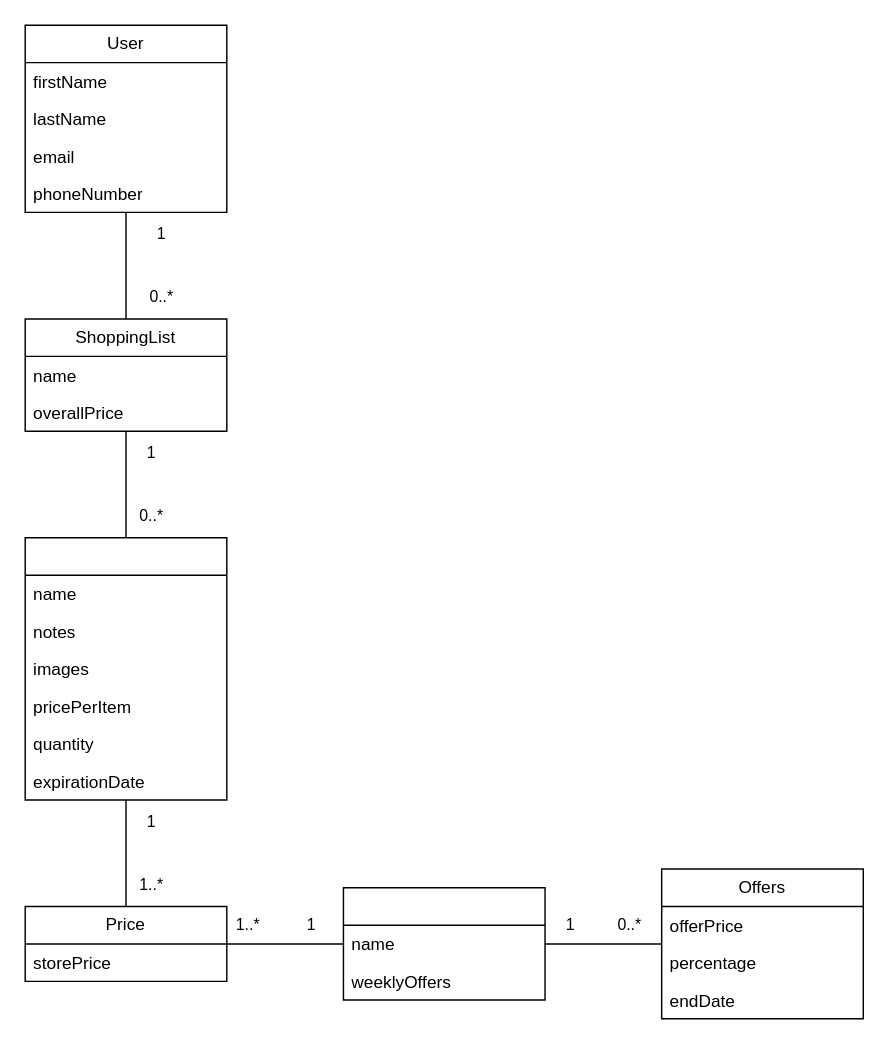
Some shapes in this 888 by 1048 pixel diagram are drawn without their labels. Each missing label, with the box of its shape:
ItemInList: (24, 536, 227, 800)
Store: (342, 886, 545, 1000)
